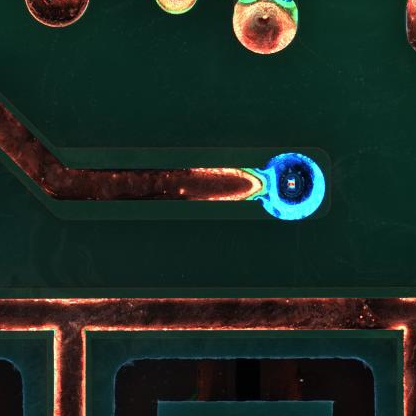spot: (261, 152, 326, 221)
